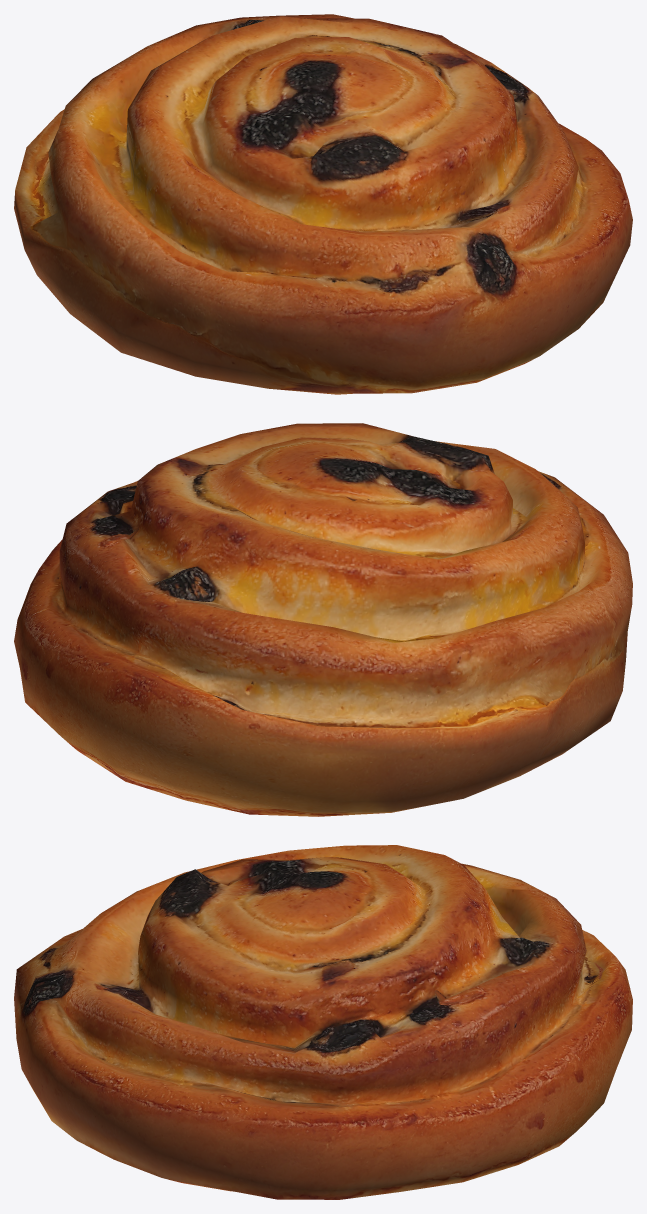
The picture shows the model from 3 angles, top to bottom: view 1: azimuth 30°, elevation 25°; view 2: azimuth 150°, elevation 25°; view 3: azimuth 270°, elevation 25°; orthographic projection. The views are drawn at different scales.
Parts seen in each view (by area): view 1: bylochka-6; view 2: bylochka-6; view 3: bylochka-6.
Part boxes in pixels (box(x1,y1,x2,y2)): bylochka-6: box(14, 14, 632, 394); bylochka-6: box(14, 423, 632, 816); bylochka-6: box(14, 845, 632, 1199).
Size of the model in its own units: 0.1168 by 0.0491 by 0.1256.
Materials: 1 (1 with a texture image).
